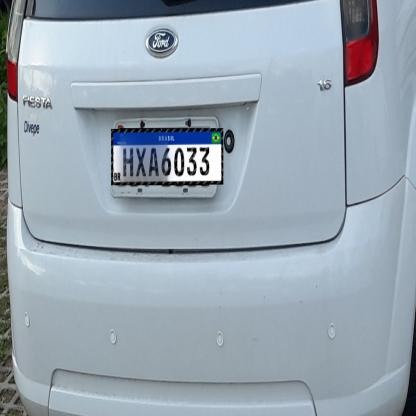PlacaM: (111, 128, 223, 185)
